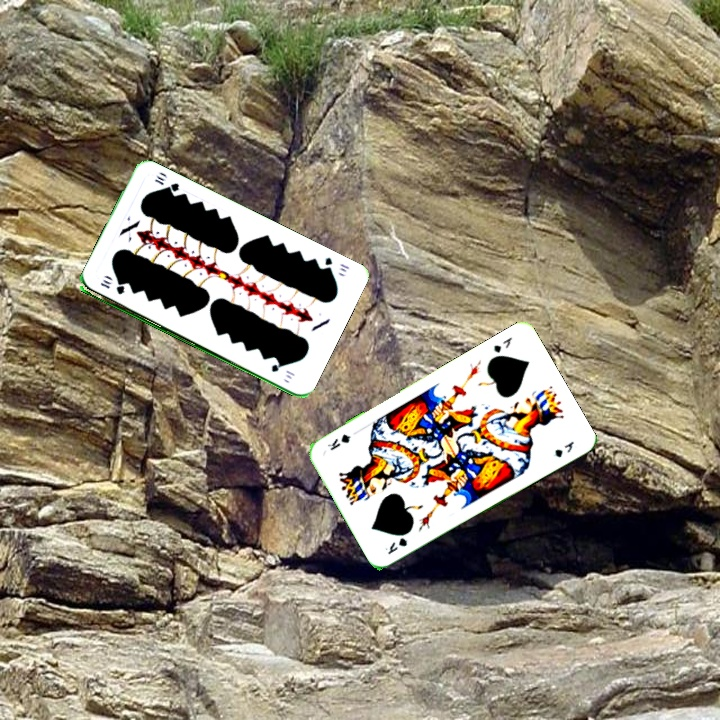G10: (319, 253, 352, 275), (96, 275, 127, 297)
GK: (381, 533, 410, 557), (489, 333, 515, 356)
